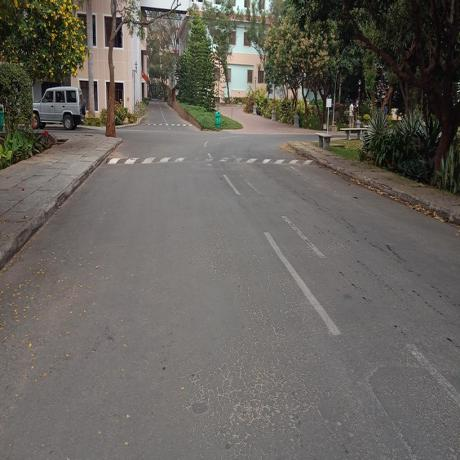Speed Bump: (105, 151, 318, 167)
